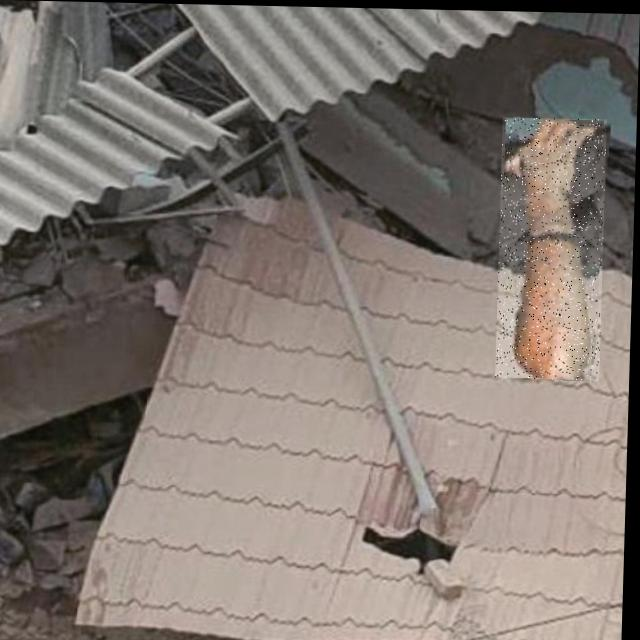Person in Rubble: (497, 115, 608, 378)
